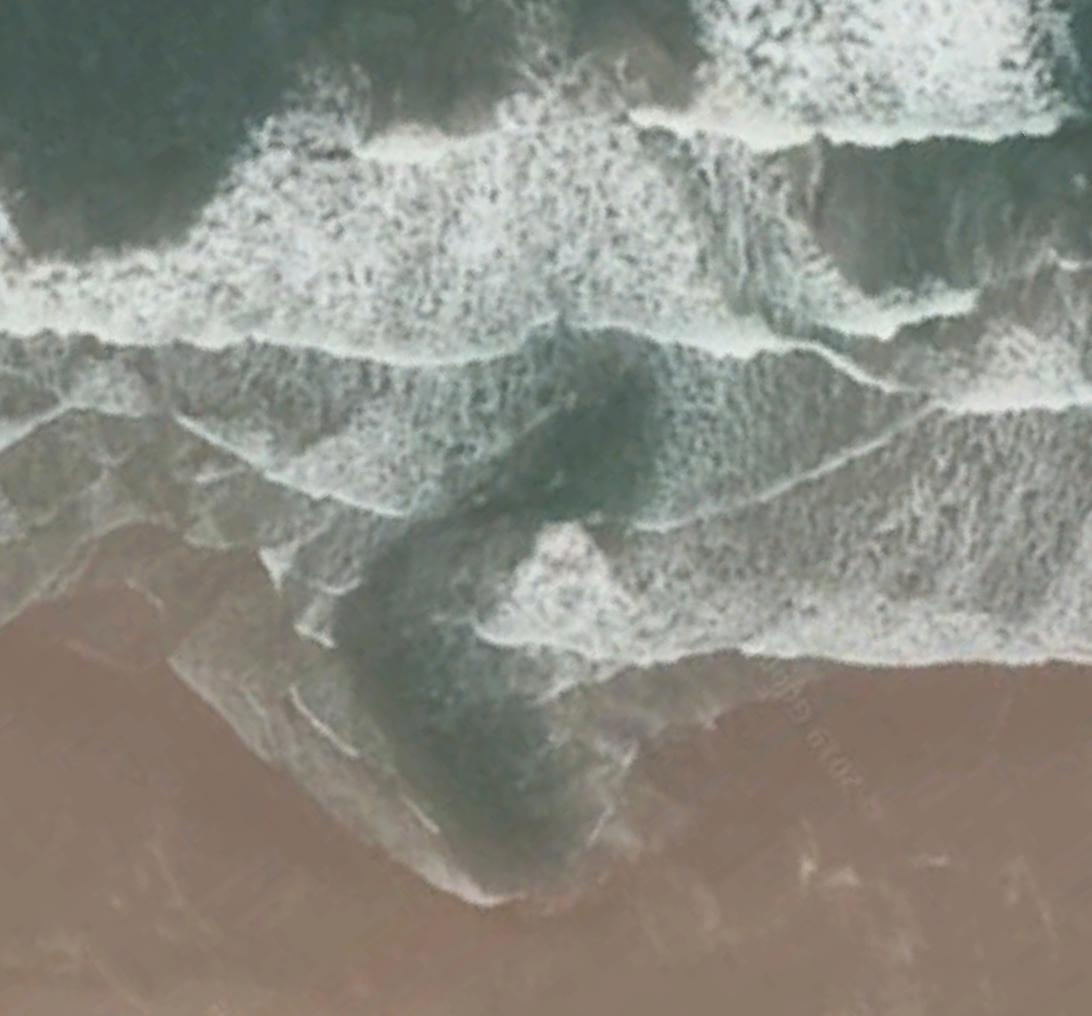rip_current: (312, 103, 694, 866)
